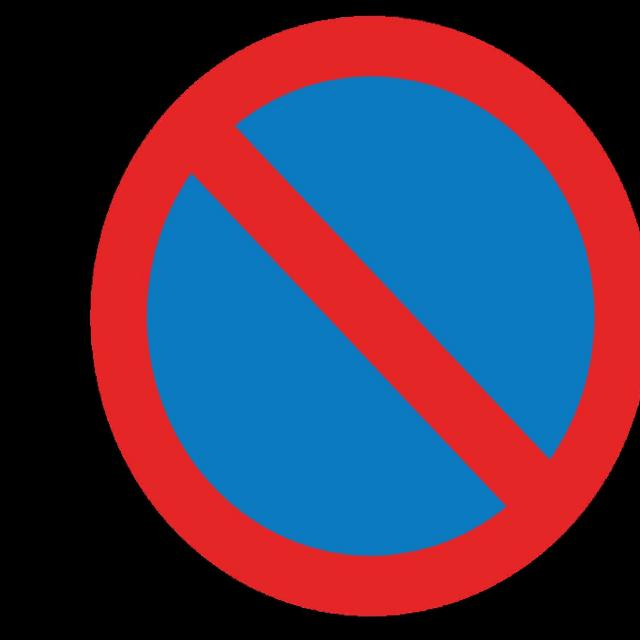forb_stopping: (96, 10, 640, 619)
